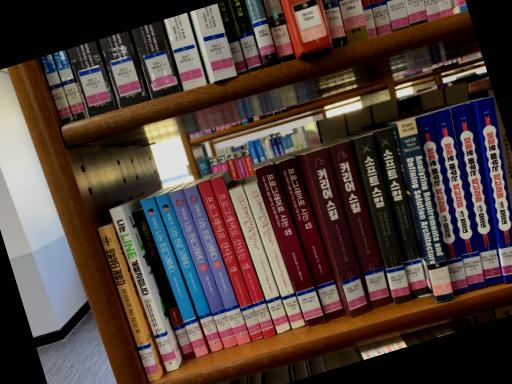book-spine: (255, 164, 326, 326), (304, 148, 370, 319), (276, 158, 345, 320), (110, 206, 177, 372), (209, 175, 276, 339), (327, 140, 392, 309), (140, 197, 208, 358), (182, 185, 250, 346), (168, 190, 237, 348), (155, 193, 223, 353), (196, 180, 263, 342), (397, 119, 453, 302), (353, 134, 412, 304), (415, 113, 469, 295), (98, 226, 160, 382), (372, 127, 428, 297), (433, 108, 485, 291), (229, 186, 290, 335), (132, 210, 194, 356), (452, 103, 501, 287), (244, 184, 305, 330), (475, 96, 512, 283)
